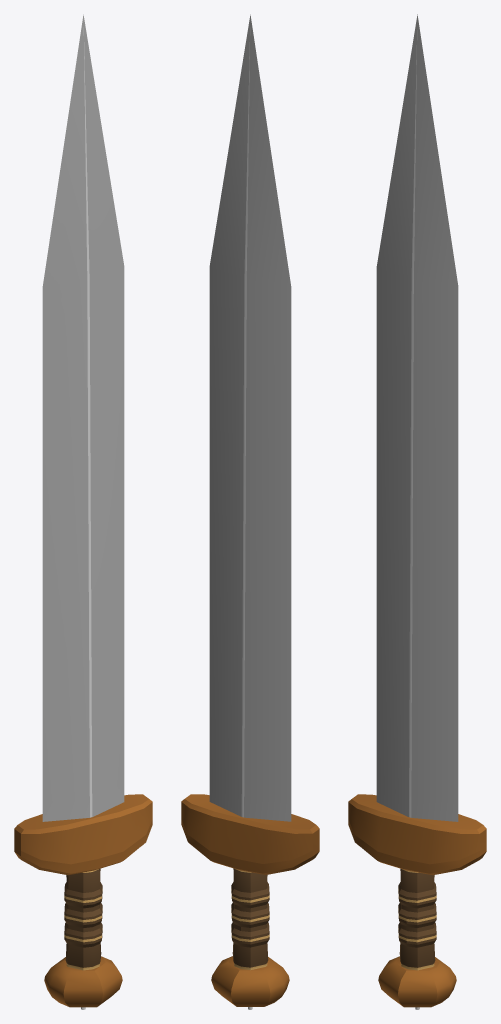
The model's file is SM_Sword08_Gladius_3Silver.fbx.
The picture shows the model from 3 angles, left to right: view 1: azimuth 30°, elevation 25°; view 2: azimuth 150°, elevation 25°; view 3: azimuth 330°, elevation 25°; orthographic projection.
Visible parts, largest first — view 1: Cube.374, Cube.375, Cylinder.488, Sphere.141; view 2: Cube.374, Cube.375, Cylinder.488, Sphere.141; view 3: Cube.374, Cube.375, Cylinder.488, Sphere.141.
Boxes of the visible parts, <box> form: Cube.374: <box>42,14,124,821</box>; Cube.375: <box>14,794,152,875</box>; Cylinder.488: <box>64,868,102,970</box>; Sphere.141: <box>44,956,122,1007</box>; Cube.374: <box>209,14,291,821</box>; Cube.375: <box>181,794,319,874</box>; Cylinder.488: <box>231,868,269,970</box>; Sphere.141: <box>211,956,289,1006</box>; Cube.374: <box>376,14,458,821</box>; Cube.375: <box>348,794,486,875</box>; Cylinder.488: <box>398,868,436,970</box>; Sphere.141: <box>378,956,456,1007</box>.
Bounding box in the file's own units: 0.0871 × 0.6293 × 0.0448.
